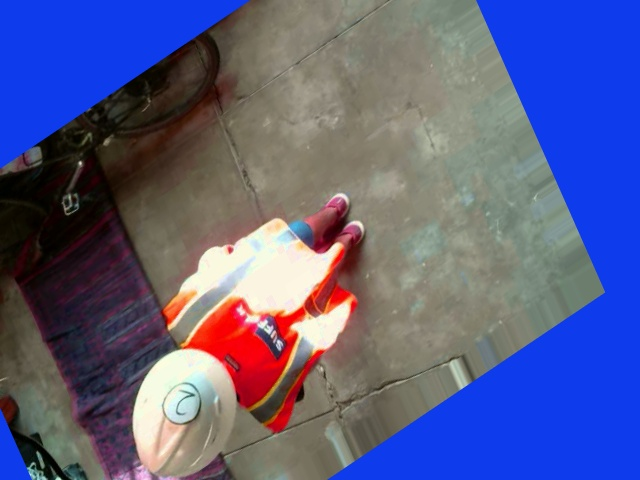two: (156, 374, 206, 433)
